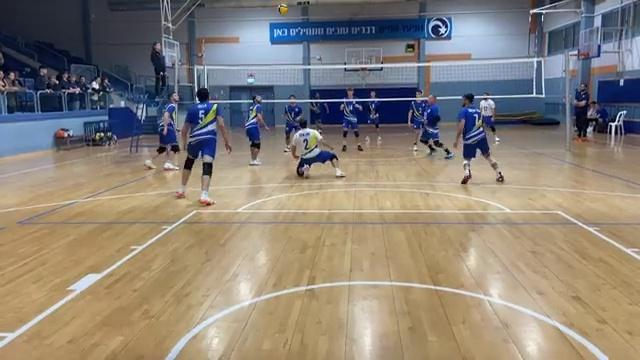ball: (276, 2, 290, 19)
